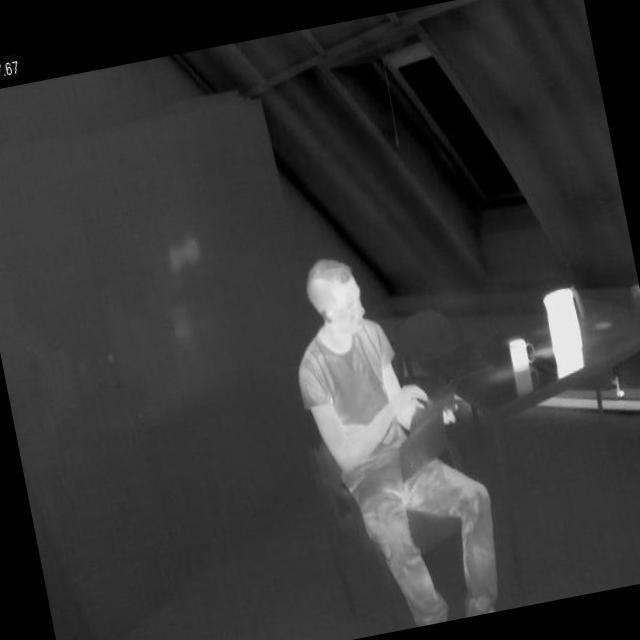person: (276, 237, 501, 640)
